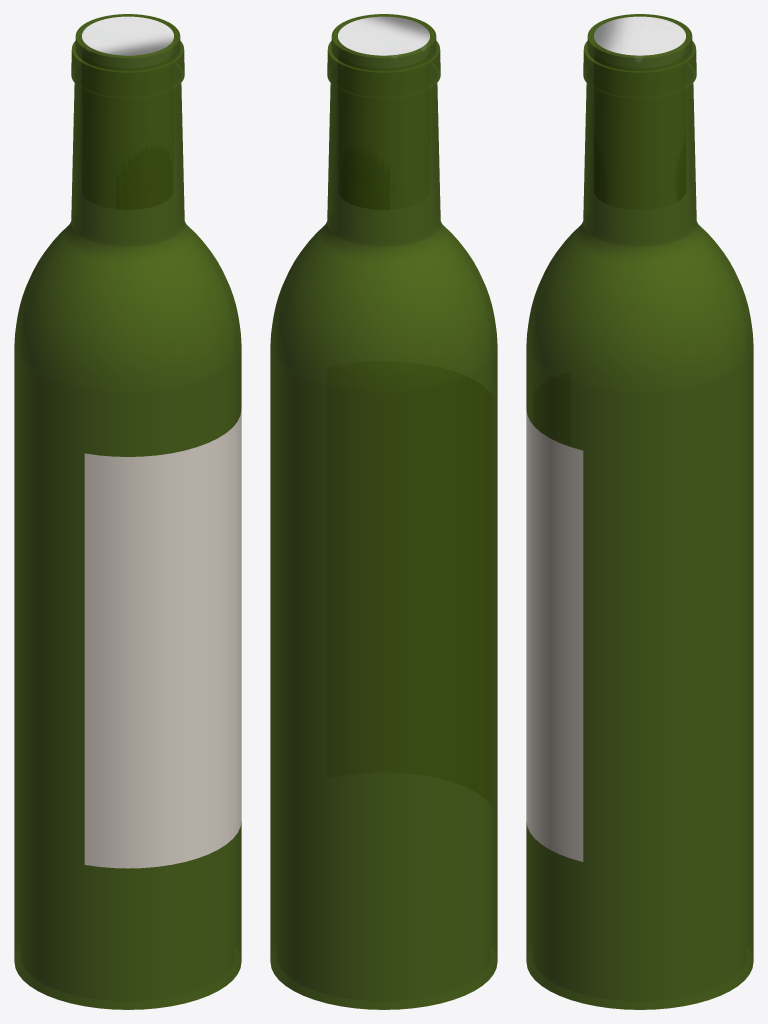
3 views of the same model, side by side, from view 1: azimuth 30°, elevation 25°; view 2: azimuth 150°, elevation 25°; view 3: azimuth 270°, elevation 25° (orthographic).
Parts seen in each view (by area): view 1: mesh2-geometry-0, mesh2-geometry-1, mesh1-geometry-0; view 2: mesh2-geometry-0, mesh1-geometry-0; view 3: mesh2-geometry-0, mesh2-geometry-1, mesh1-geometry-0.
Boxes of the visible parts, x1,y1,x2,y2 form: mesh2-geometry-0: [14, 14, 241, 1009]; mesh2-geometry-1: [84, 409, 241, 868]; mesh1-geometry-0: [82, 16, 173, 55]; mesh2-geometry-0: [270, 14, 497, 1009]; mesh1-geometry-0: [338, 16, 429, 59]; mesh2-geometry-0: [526, 14, 753, 1009]; mesh2-geometry-1: [526, 409, 583, 861]; mesh1-geometry-0: [594, 16, 685, 62].
Bounding box in the file's own units: 0.2121 × 0.954 × 0.2121.
